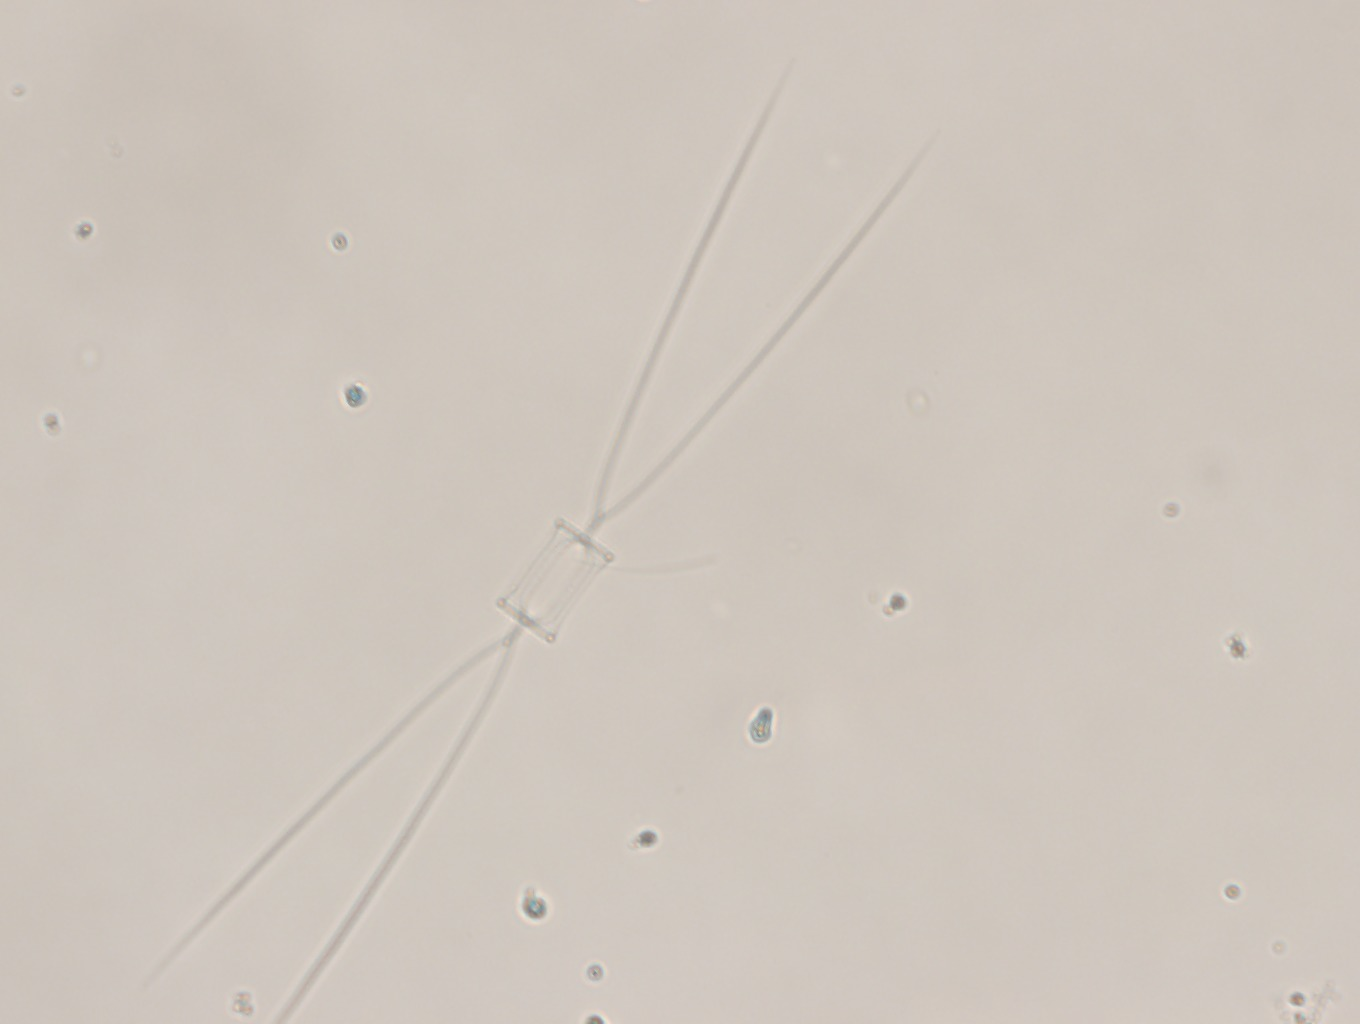chaetoceros: (133, 55, 948, 1022)
